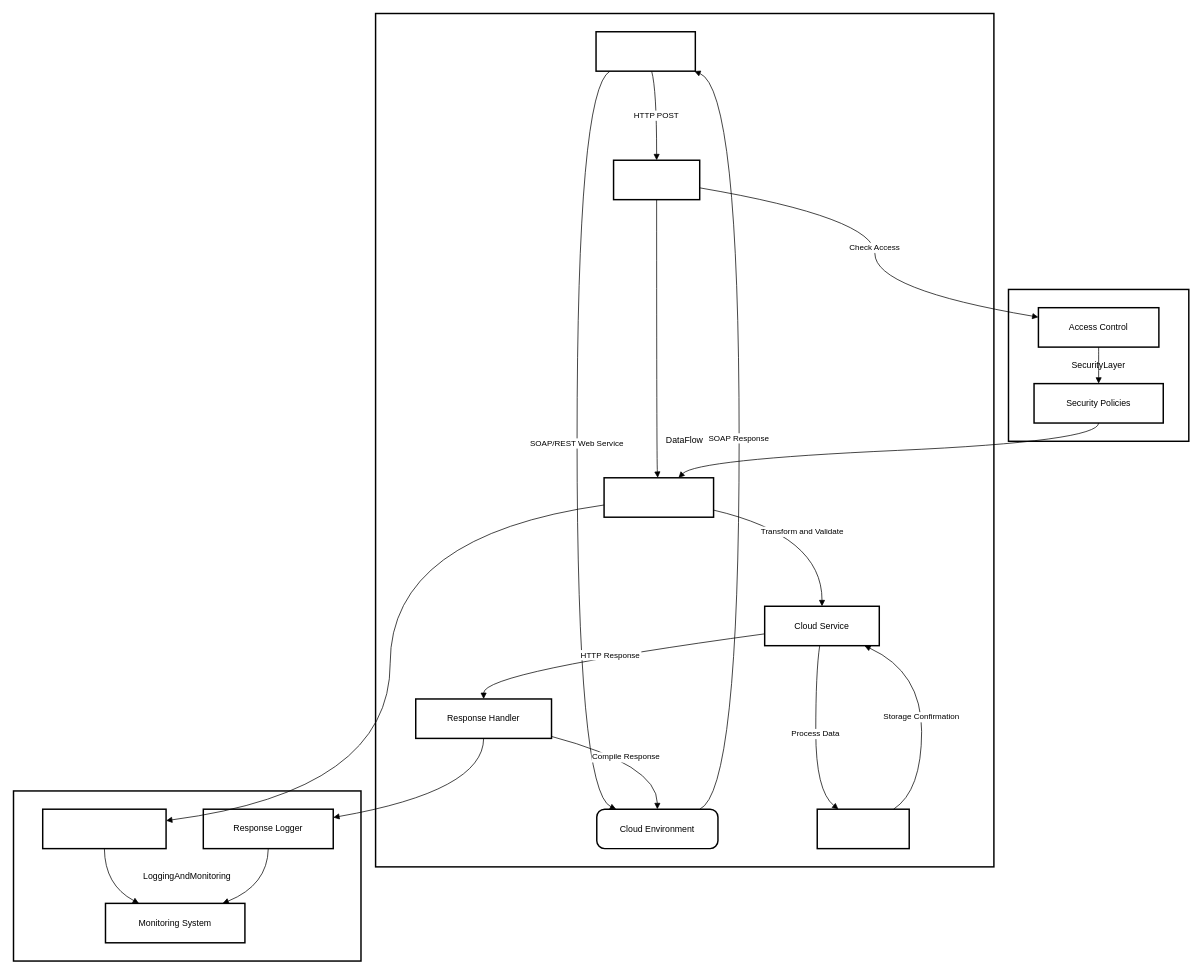
This 1202x974 diagram has some shape labels left out. The shapes that lost their labels are listed below. From the top down, each one's centre as x and y in pixels, then its label:
the point at 645,51: SAP Server
the point at 656,179: Firewall
the point at 658,497: API Gateway
the point at 104,828: Request Logger
the point at 863,828: Database
